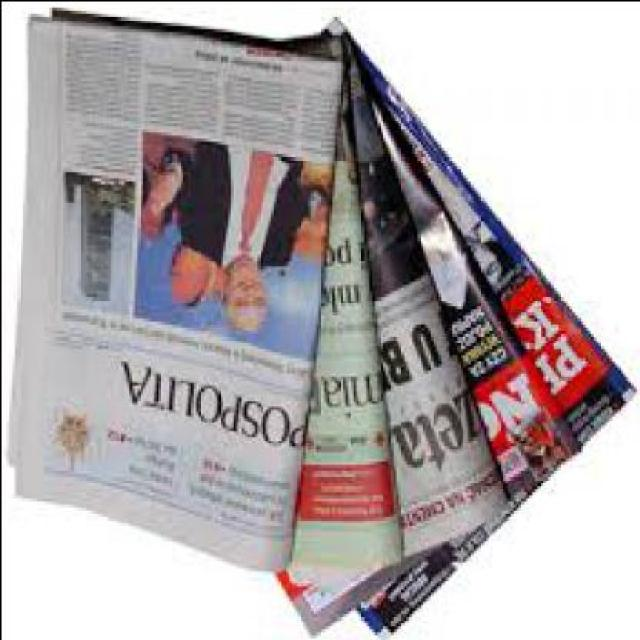PAPER: (120, 16, 638, 638), (197, 16, 600, 618), (45, 9, 400, 560), (186, 37, 511, 638), (21, 22, 347, 576)
